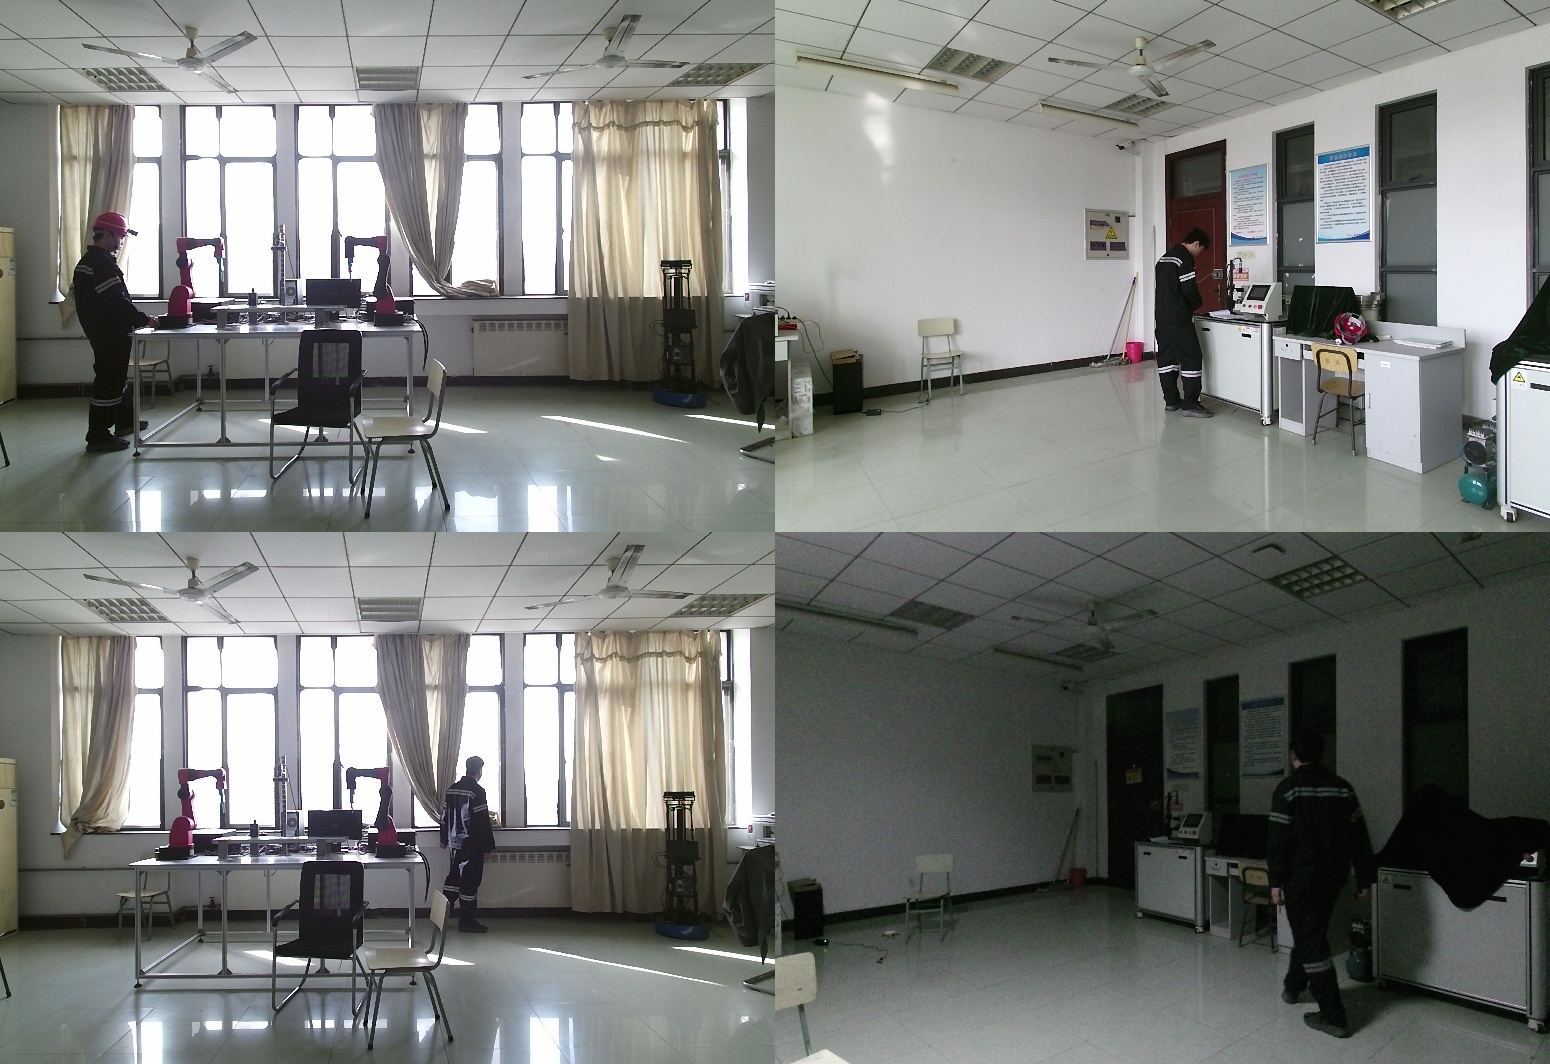person: (1270, 729, 1396, 1037), (71, 213, 161, 454), (1156, 231, 1215, 428), (442, 757, 500, 944)
